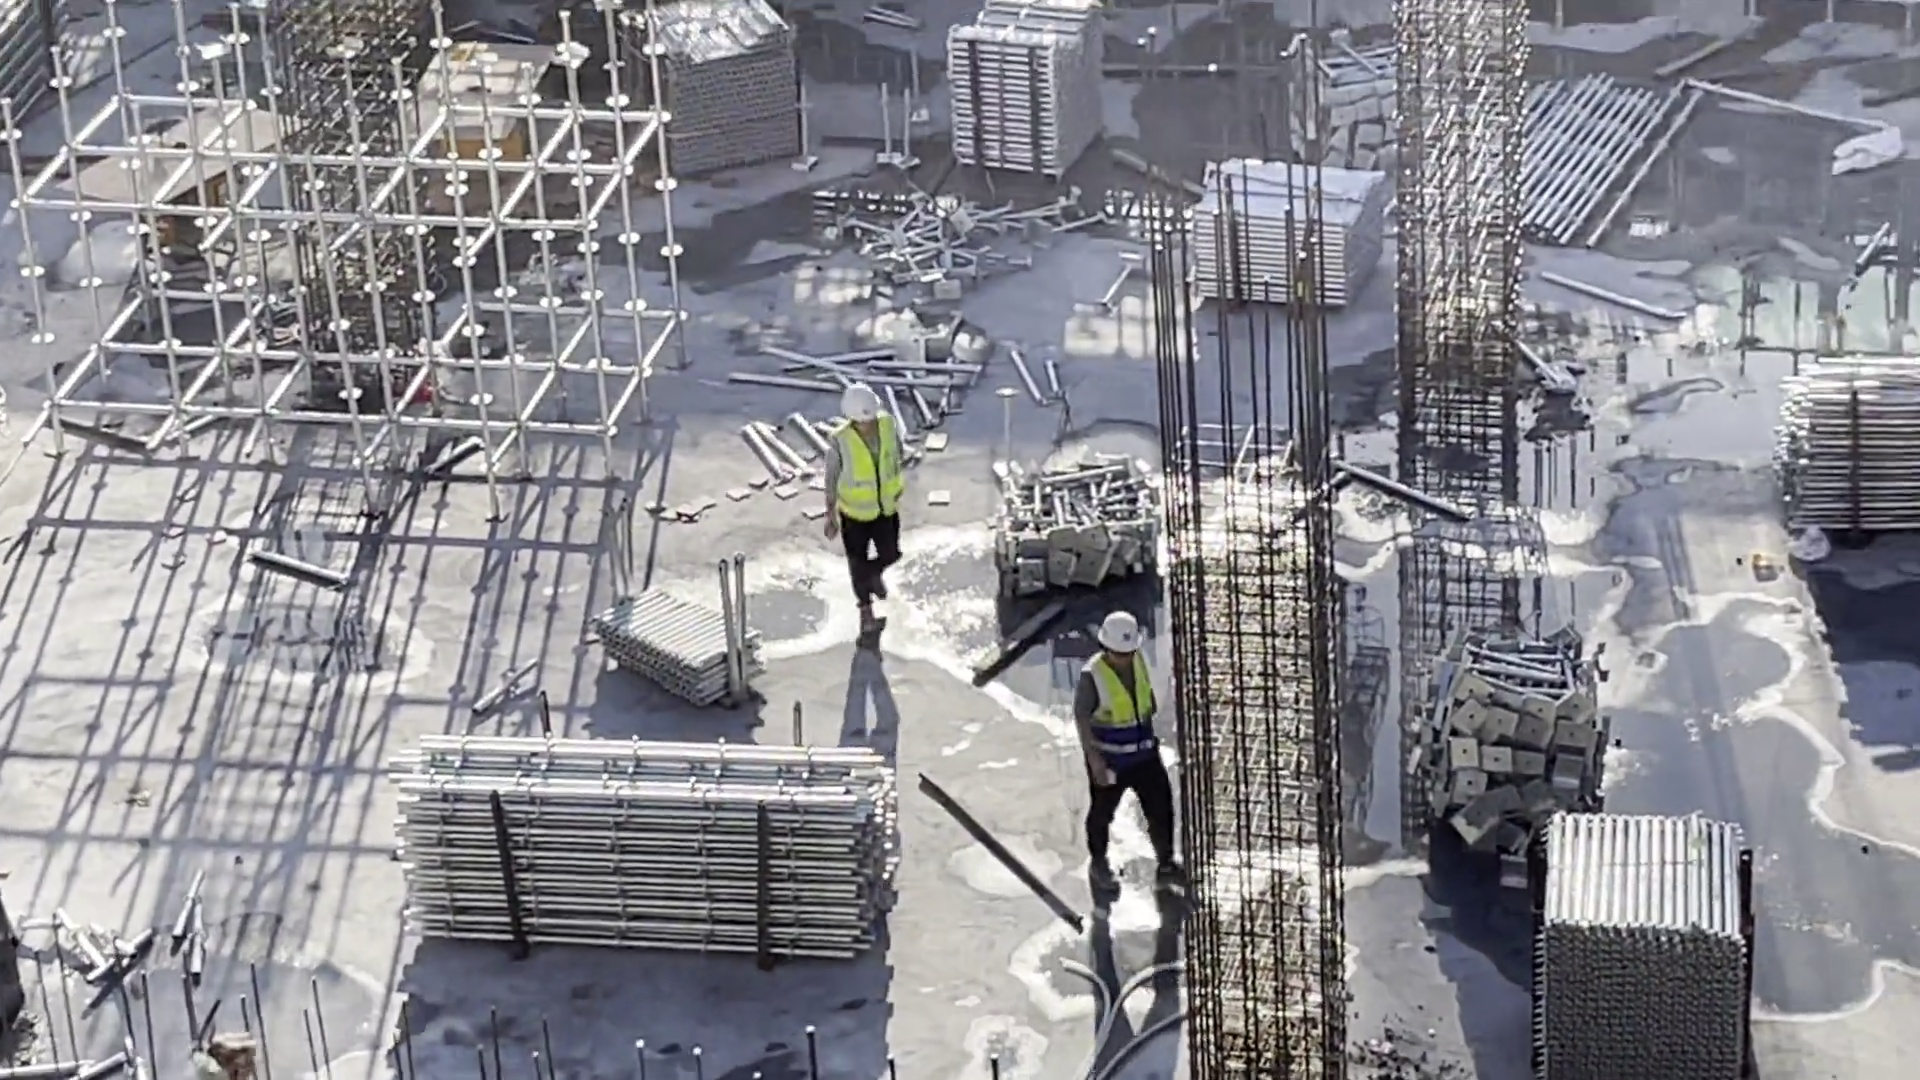cutter: (97, 115, 263, 296), (418, 46, 534, 197)
helmet: (825, 383, 877, 418), (1101, 618, 1144, 650)
person: (1071, 606, 1189, 902), (817, 383, 922, 649)
scaffold: (413, 728, 941, 980), (1552, 816, 1764, 1080), (1446, 99, 1671, 235), (653, 1, 819, 165), (953, 1, 1103, 172), (1203, 191, 1371, 309), (1812, 363, 1920, 544), (600, 590, 747, 703)
vest: (836, 426, 907, 516), (1086, 659, 1153, 737)
